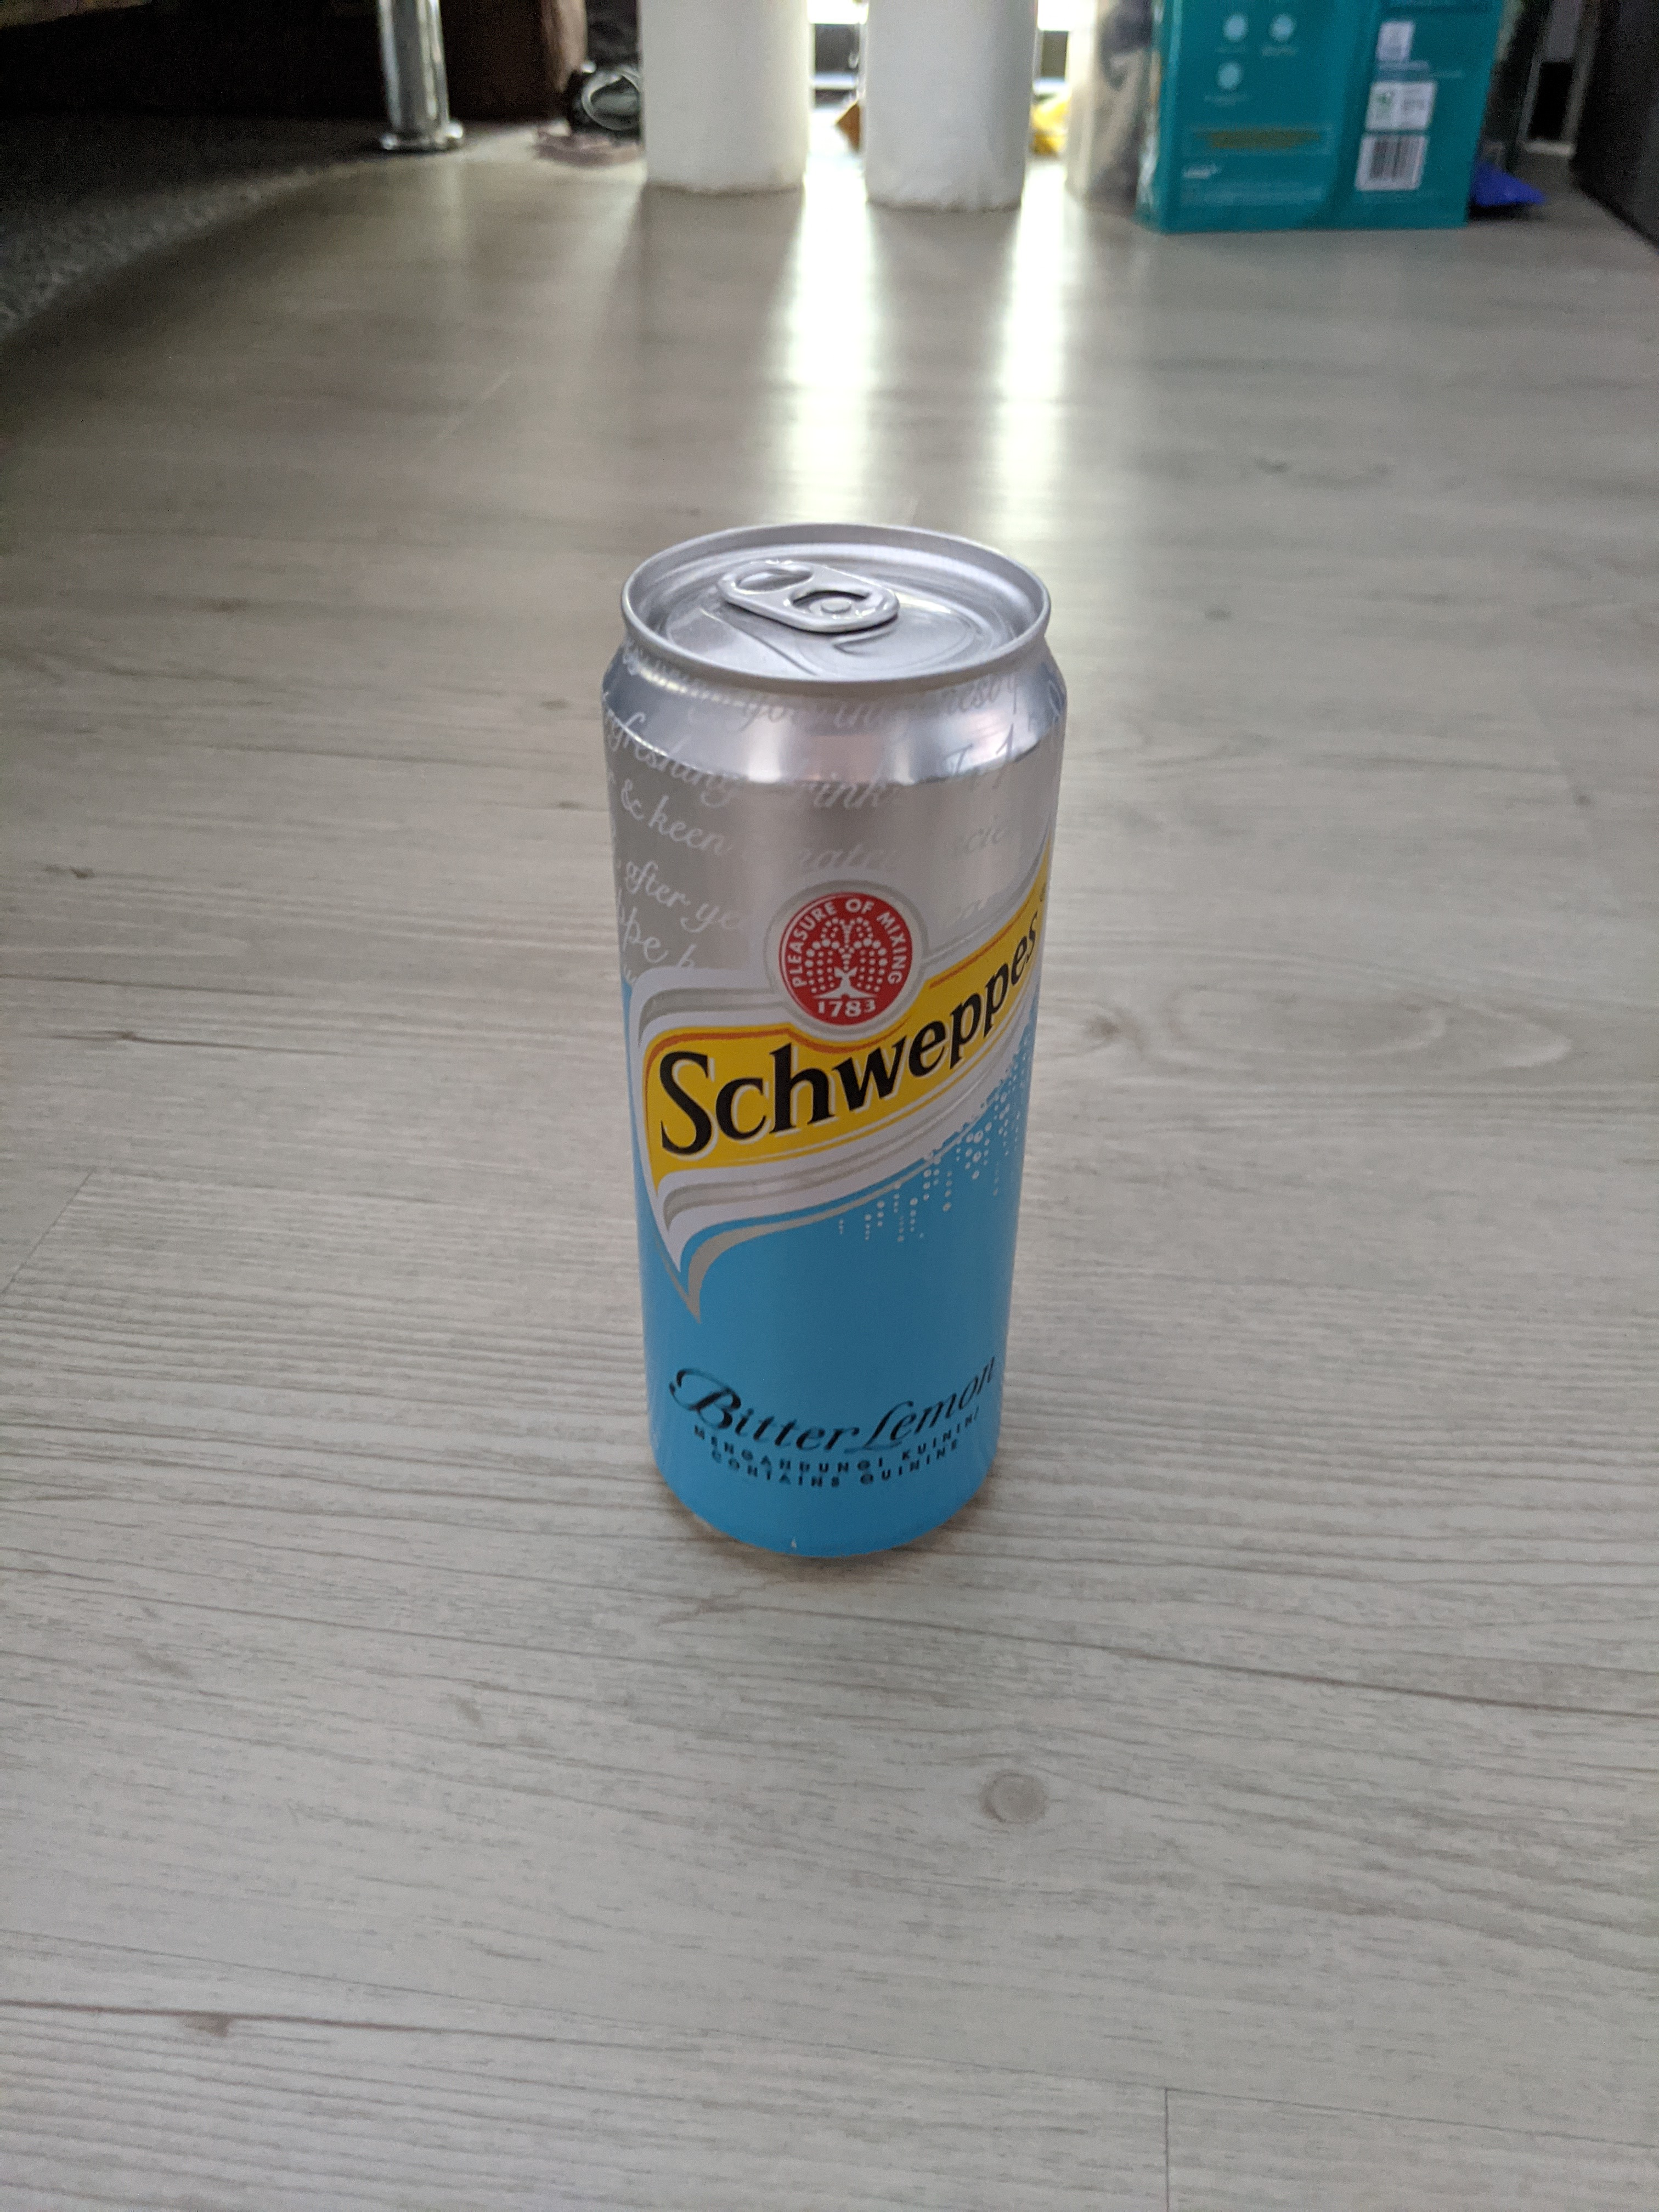schweppes drink can bitter lemon: (573, 493, 1094, 1615)
